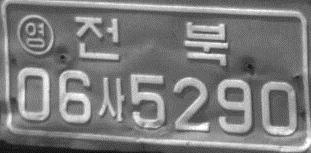0: (259, 80, 298, 137), (15, 65, 52, 121)
2: (173, 77, 210, 132)
5: (129, 73, 166, 130)
6: (57, 69, 92, 124)
9: (216, 78, 253, 135)
사: (97, 77, 125, 120)
영: (16, 13, 55, 56)
전북_D: (73, 15, 229, 66)
